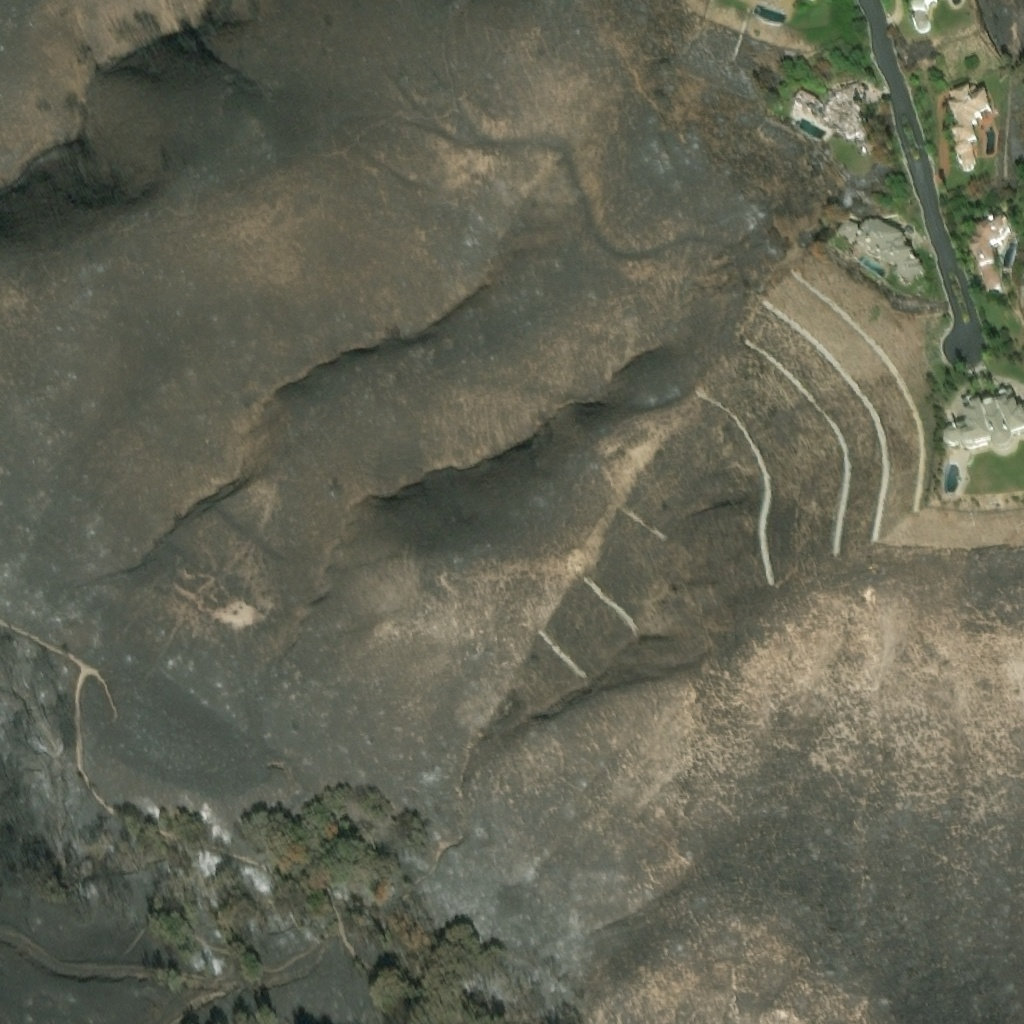0 no-damage: (834, 215, 927, 293), (942, 397, 1023, 454), (947, 81, 992, 173), (968, 220, 1014, 294), (912, 0, 936, 32)
3 destroyed: (785, 73, 868, 144)
